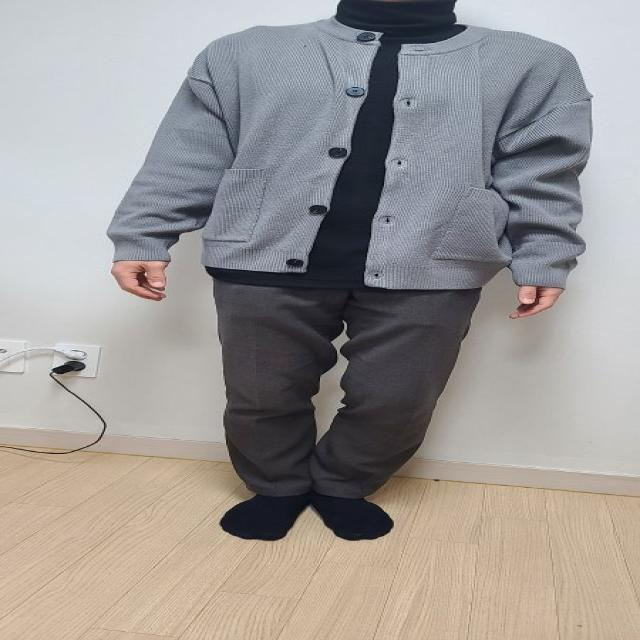cardigan: (108, 19, 594, 289)
cottonpants: (208, 266, 481, 504)
